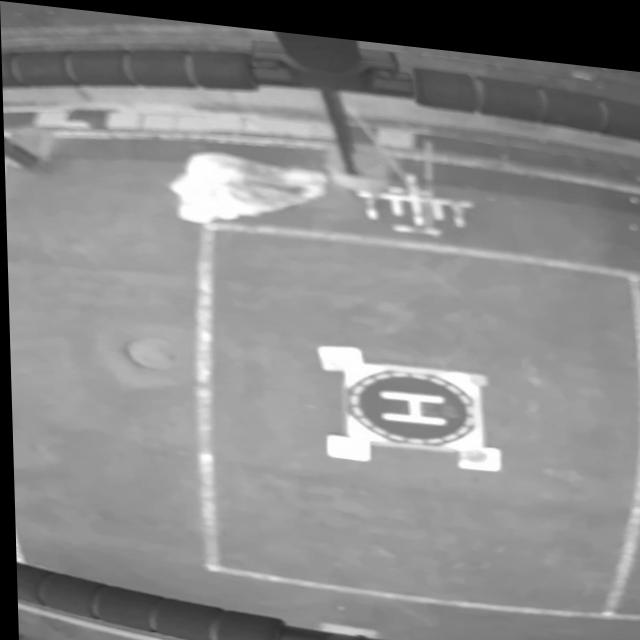Helipad: (376, 379, 448, 415)
